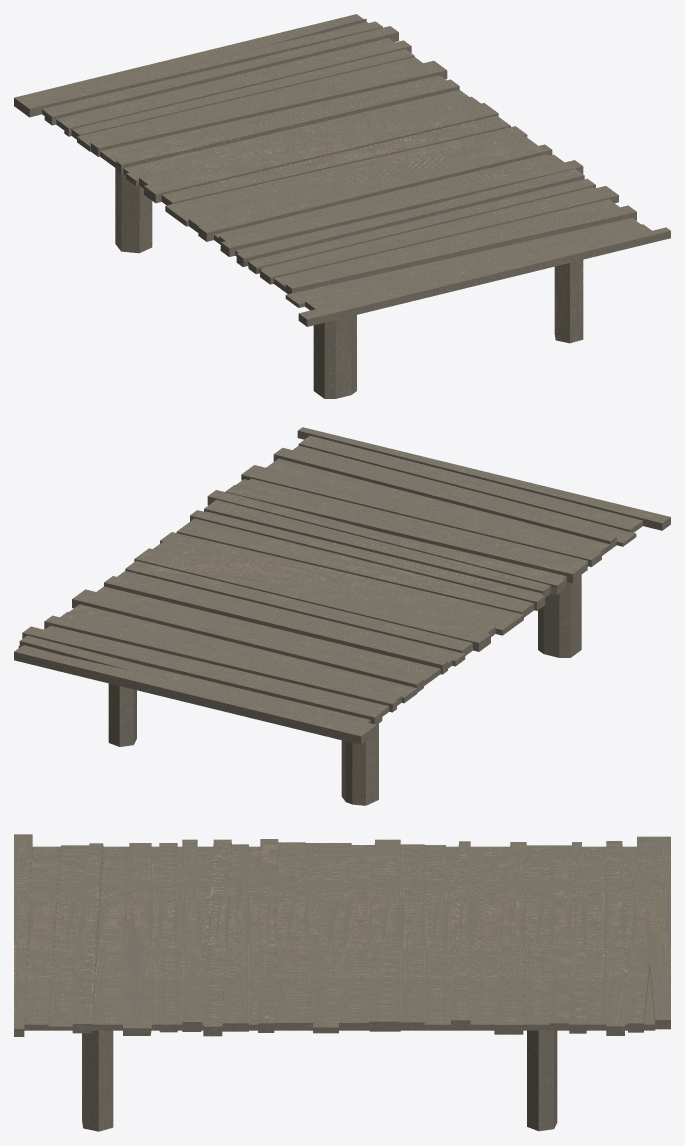
The model's file is Shade 4.fbx.
The picture shows the model from 3 angles, top to bottom: view 1: azimuth 30°, elevation 25°; view 2: azimuth 150°, elevation 25°; view 3: azimuth 270°, elevation 25°; orthographic projection. The views are drawn at different scales.
Parts seen in each view (by area): view 1: Model; view 2: Model; view 3: Model.
Part boxes in pixels (x1,y1,x2,y2): Model: (14,14,670,398); Model: (14,427,670,805); Model: (14,834,670,1131).
Bounding box in the file's own units: 11793 × 3719 × 16821.
